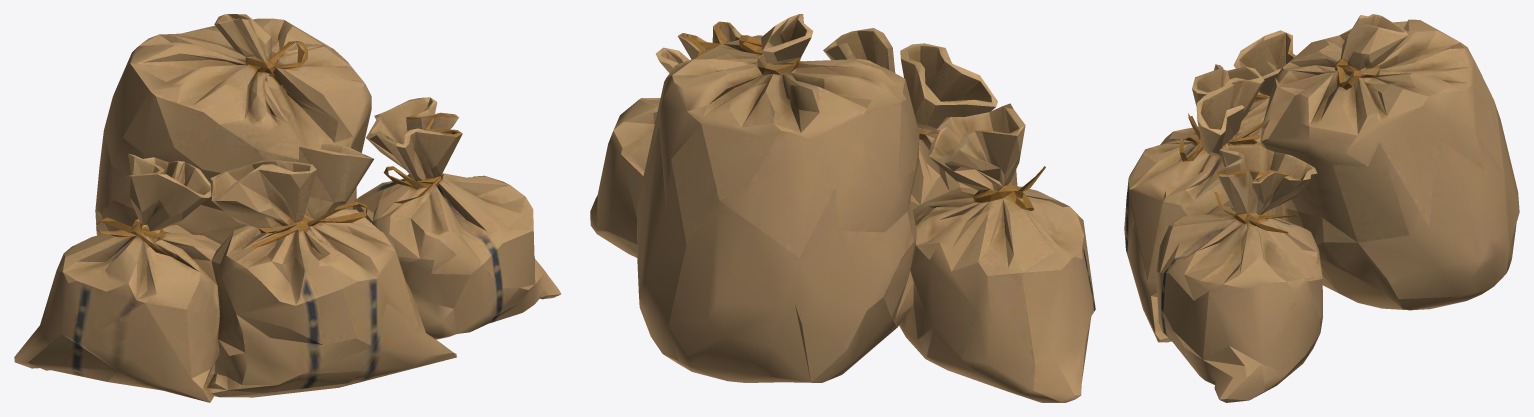
Rendered from sacks-pile.glb.
3 views of the same model, side by side, from view 1: azimuth 30°, elevation 25°; view 2: azimuth 150°, elevation 25°; view 3: azimuth 270°, elevation 25° (orthographic). The views are drawn at different scales.
Visible parts, largest first — view 1: output_unwrapped; view 2: output_unwrapped; view 3: output_unwrapped.
Boxes of the visible parts, x1,y1,x2,y2 form: output_unwrapped: [14, 14, 561, 402]; output_unwrapped: [590, 14, 1095, 402]; output_unwrapped: [1124, 14, 1519, 402].
Bounding box in the file's own units: 1.9 × 1.09 × 1.41.
1 material, 1 textured.
